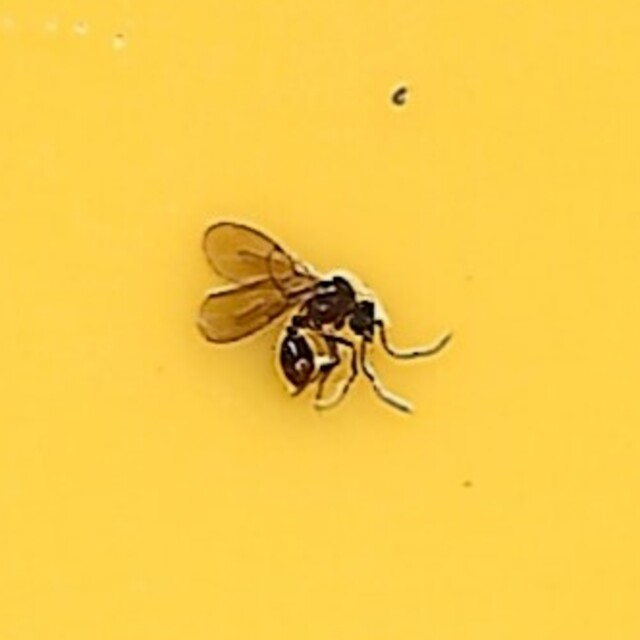Hymenoptera: (193, 216, 447, 424)
